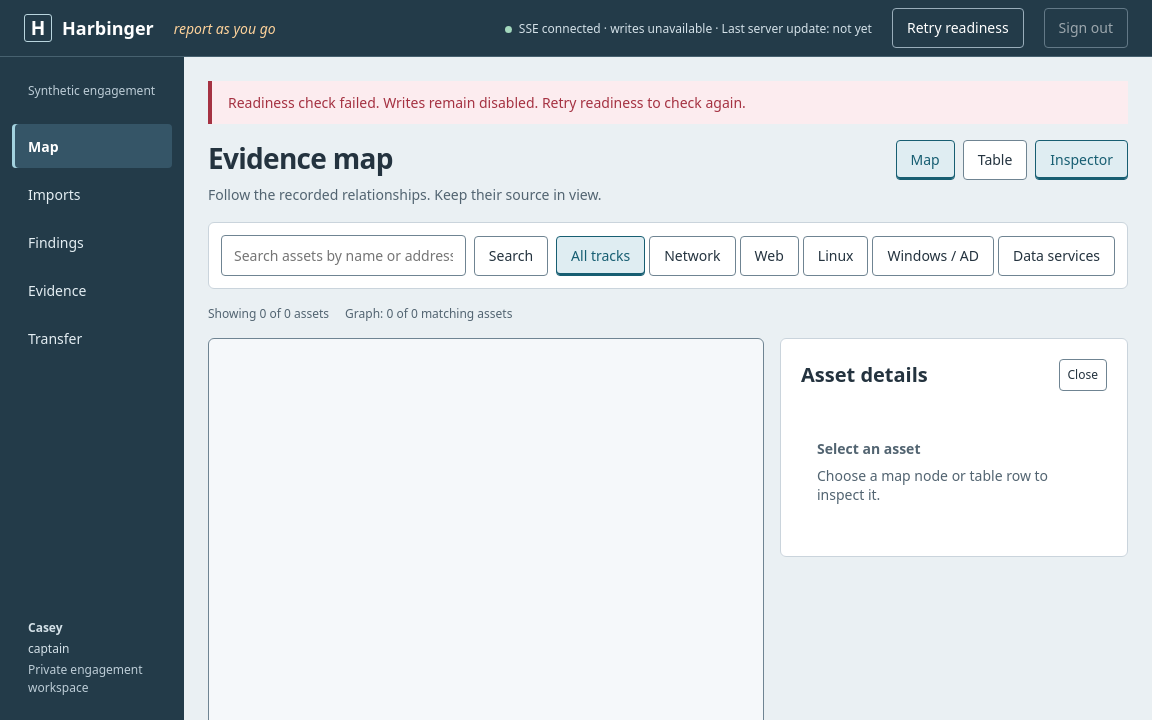
Test: reports a failed readiness request and recovers without reopening the stream
Expected: the text "Readiness check failed" is shown, [228,93,746,112]
Expected: the button "Sign out" is disabled, [1044,8,1128,48]
Step 1. Click the button "Retry readiness" → (958, 28), box [892,8,1024,48]
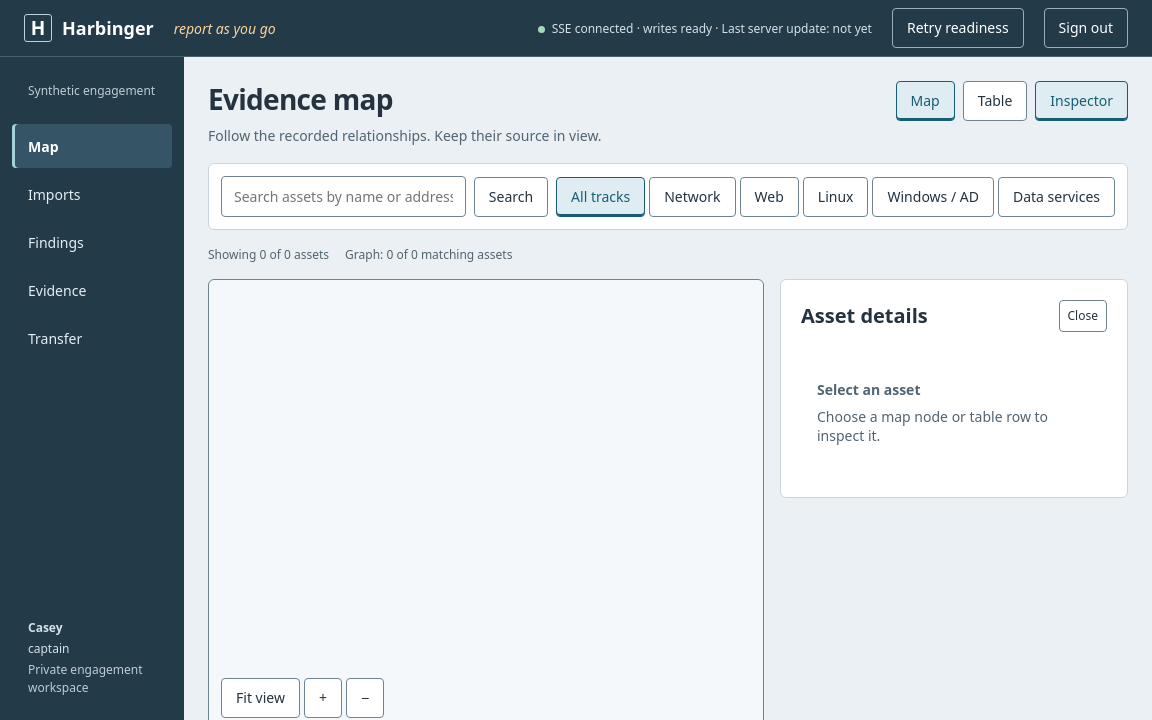
Now the button "Sign out" is enabled, box [1044,8,1128,48]
